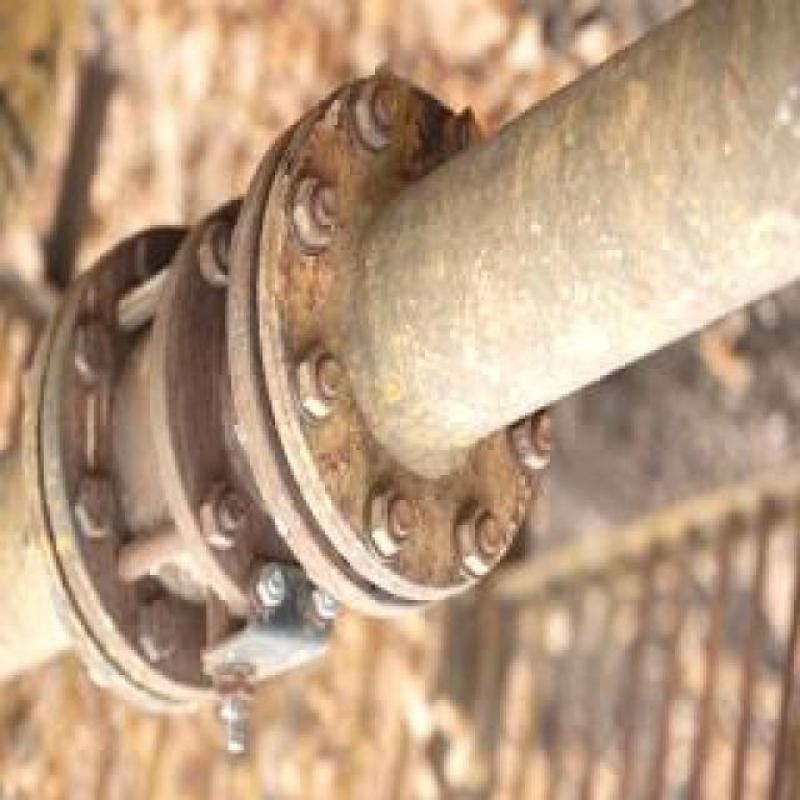corrosion: (318, 125, 380, 191), (488, 453, 539, 511), (330, 436, 374, 491)
